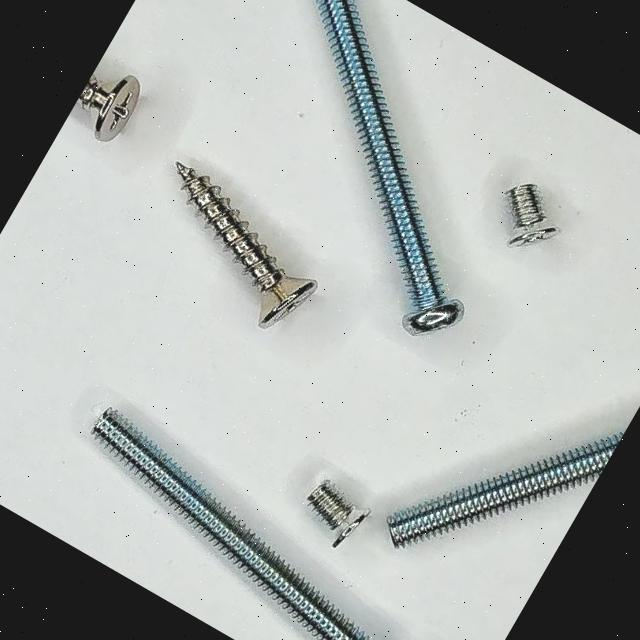Screw: (91, 409, 370, 640), (316, 0, 464, 336), (387, 433, 624, 550), (176, 163, 317, 329), (307, 481, 371, 550), (79, 75, 139, 142), (506, 184, 561, 248)
